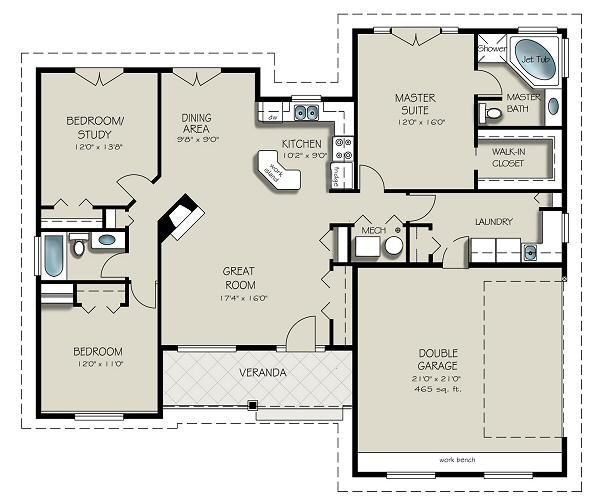door: (285, 311, 318, 347), (440, 236, 472, 269), (405, 192, 439, 223), (127, 281, 157, 313), (114, 171, 150, 197), (95, 253, 131, 279), (357, 163, 388, 193), (481, 69, 512, 99)
room: (36, 64, 162, 209), (36, 280, 160, 419), (474, 27, 567, 129)
window: (389, 24, 442, 49), (76, 66, 124, 87), (172, 66, 220, 87), (177, 343, 236, 354), (386, 470, 438, 480), (483, 470, 535, 480), (74, 411, 123, 421)
